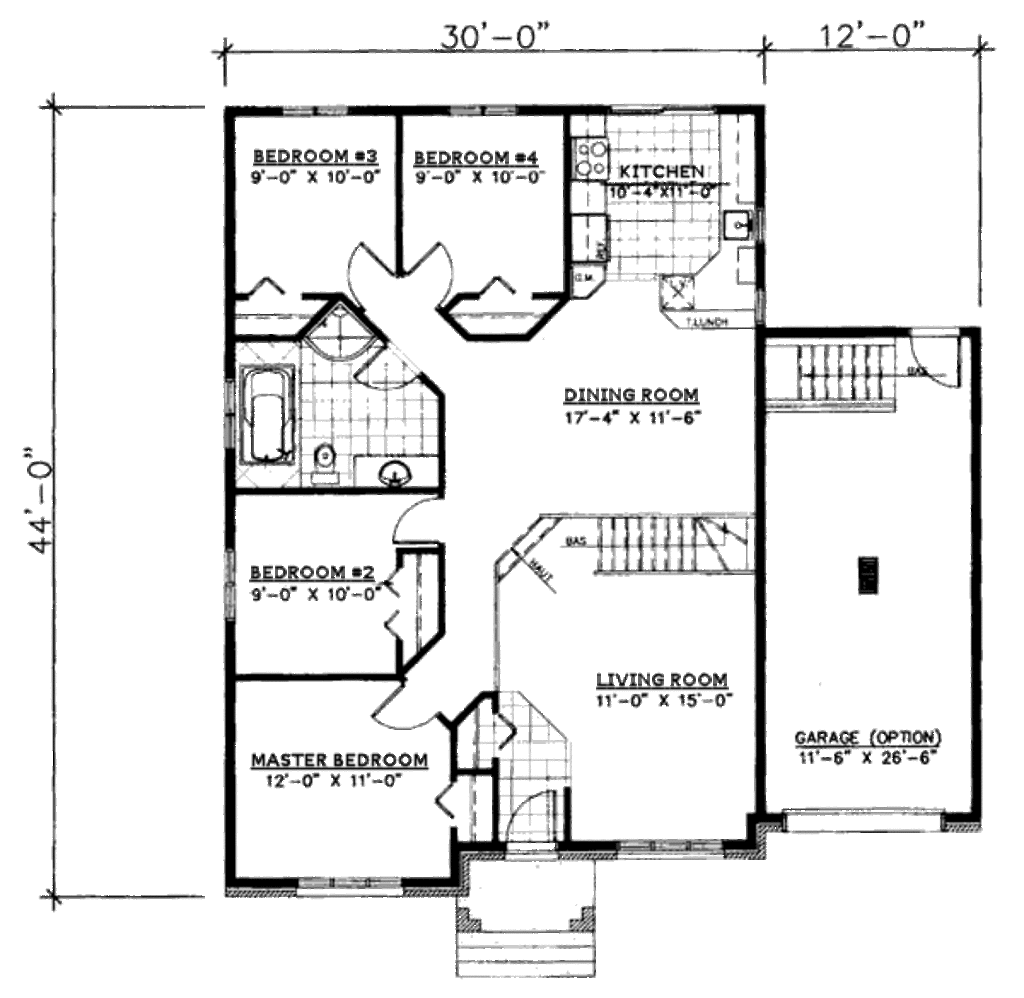door: (351, 339, 427, 404), (896, 330, 964, 393), (402, 236, 459, 307), (368, 681, 439, 738), (381, 496, 456, 547), (505, 789, 564, 852), (341, 240, 393, 310)
large_sink: (305, 435, 342, 490)
sink: (714, 200, 768, 256)
small_sink: (354, 447, 442, 493)
stairs: (582, 507, 762, 580), (765, 333, 914, 418)
tub: (236, 363, 299, 472)
window: (301, 872, 404, 904), (442, 96, 528, 121), (619, 98, 701, 120), (271, 104, 351, 124)
